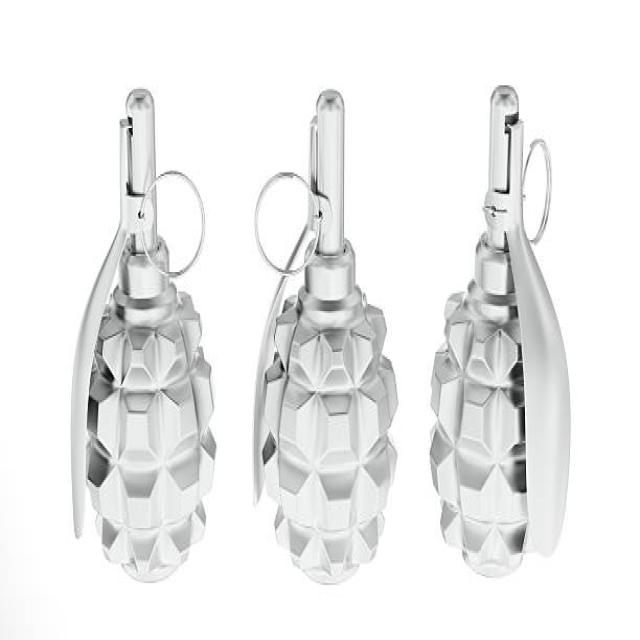grenade: (242, 88, 401, 591), (66, 83, 222, 589), (430, 83, 574, 585)
